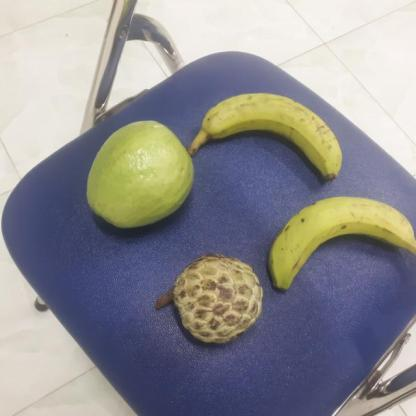annona: (154, 254, 260, 343)
banana: (266, 194, 416, 290), (188, 94, 338, 184)
guava: (83, 123, 193, 228)
